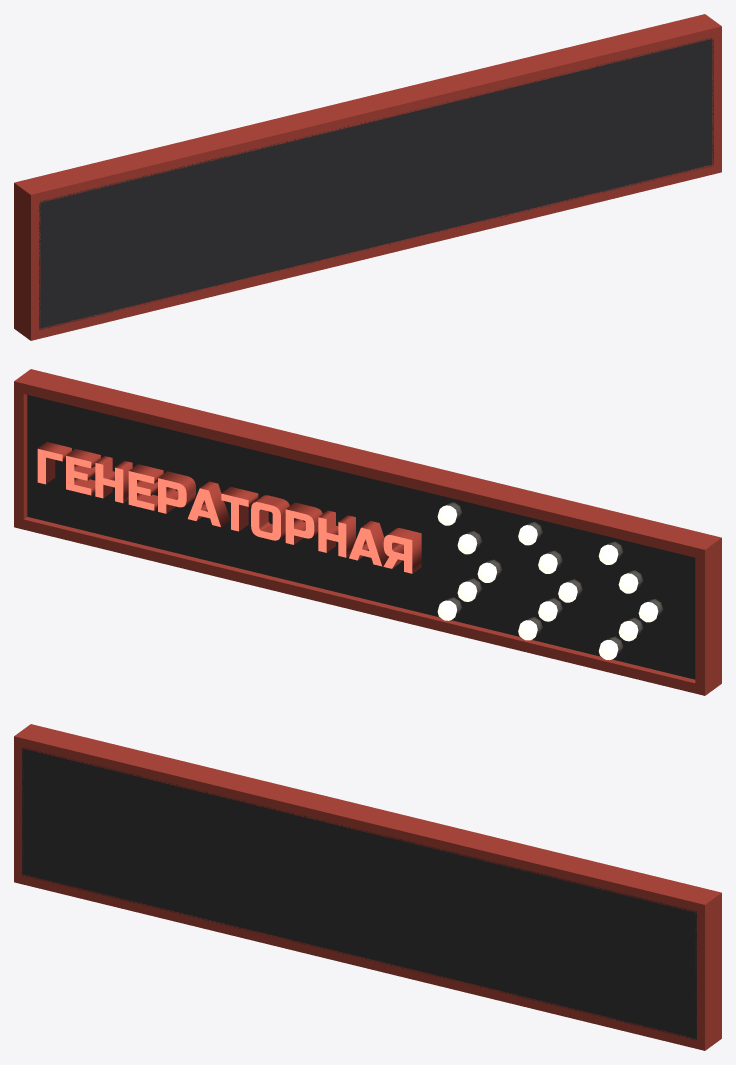
The model's file is arrow_generator_right.glb.
The picture shows the model from 3 angles, top to bottom: view 1: azimuth 30°, elevation 25°; view 2: azimuth 150°, elevation 25°; view 3: azimuth 330°, elevation 25°; orthographic projection.
Visible parts, largest first — view 1: Sign; view 2: Sign, BulbsA, BulbsB; view 3: Sign.
Boxes of the visible parts, left/top/right/bottom form: Sign: left=14, top=14, right=721, bottom=340; Sign: left=14, top=369, right=721, bottom=695; BulbsA: left=437, top=505, right=658, bottom=659; BulbsB: left=518, top=525, right=577, bottom=640; Sign: left=14, top=724, right=721, bottom=1050.
Size of the model in its own units: 4.26 by 0.86 by 0.268.
